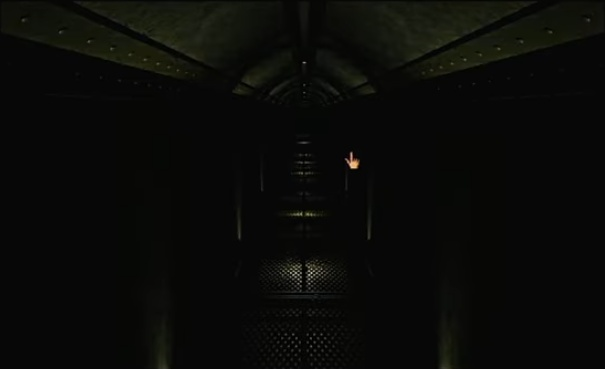Pointer: (341, 146, 364, 172)
